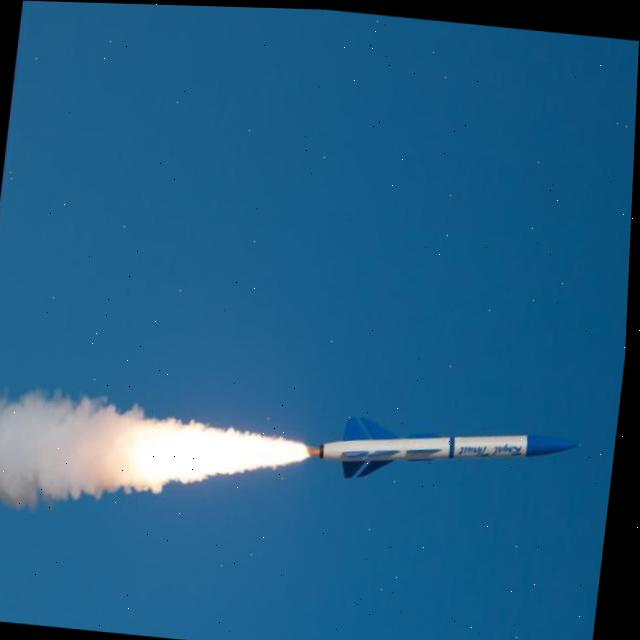missile: (315, 406, 593, 499)
